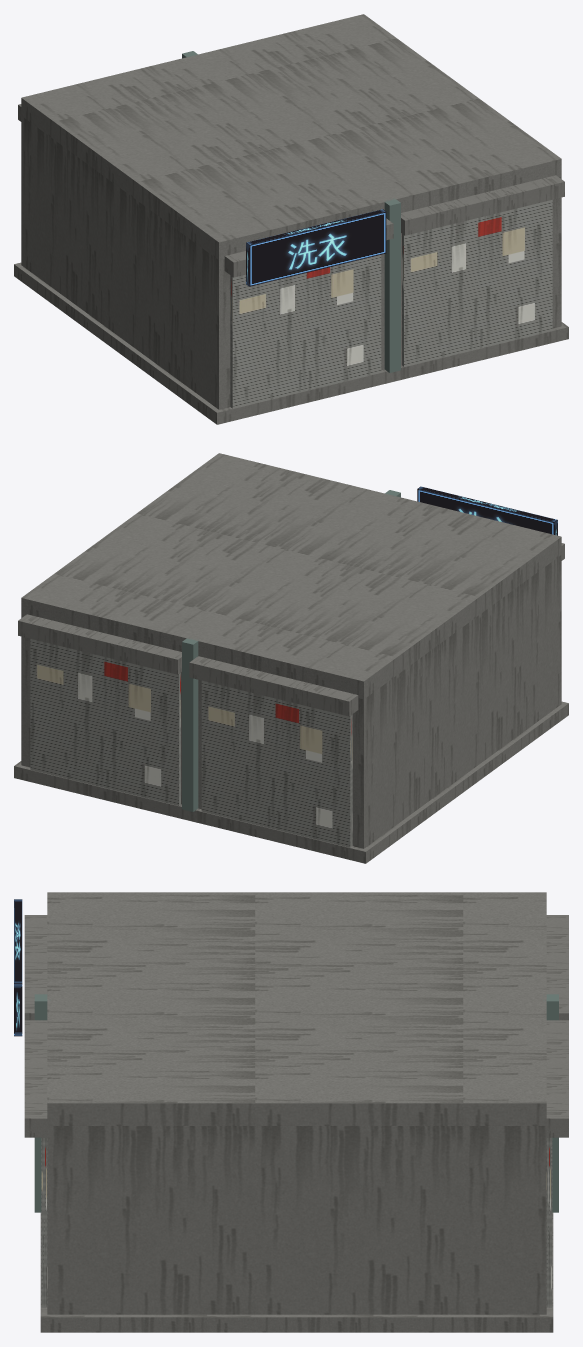
The model's file is floor_shop_shutter.glb.
The picture shows the model from 3 angles, top to bottom: view 1: azimuth 30°, elevation 25°; view 2: azimuth 150°, elevation 25°; view 3: azimuth 270°, elevation 25°; orthographic projection. The views are drawn at different scales.
Visible parts, largest first — view 1: floor_shop_shutter; view 2: floor_shop_shutter; view 3: floor_shop_shutter.
Boxes of the visible parts, bbox=[...] form: floor_shop_shutter: bbox=[14, 14, 568, 424]; floor_shop_shutter: bbox=[14, 453, 568, 863]; floor_shop_shutter: bbox=[14, 892, 568, 1332].
Bounding box in the file's own units: 6.16 × 3.05 × 6.67.
4 materials, 3 textured.
